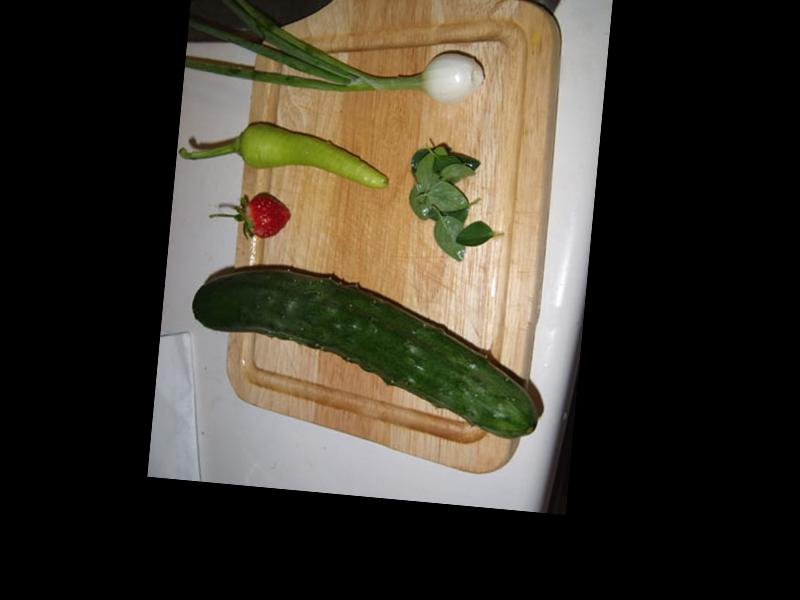Cucumber: (184, 261, 549, 440)
